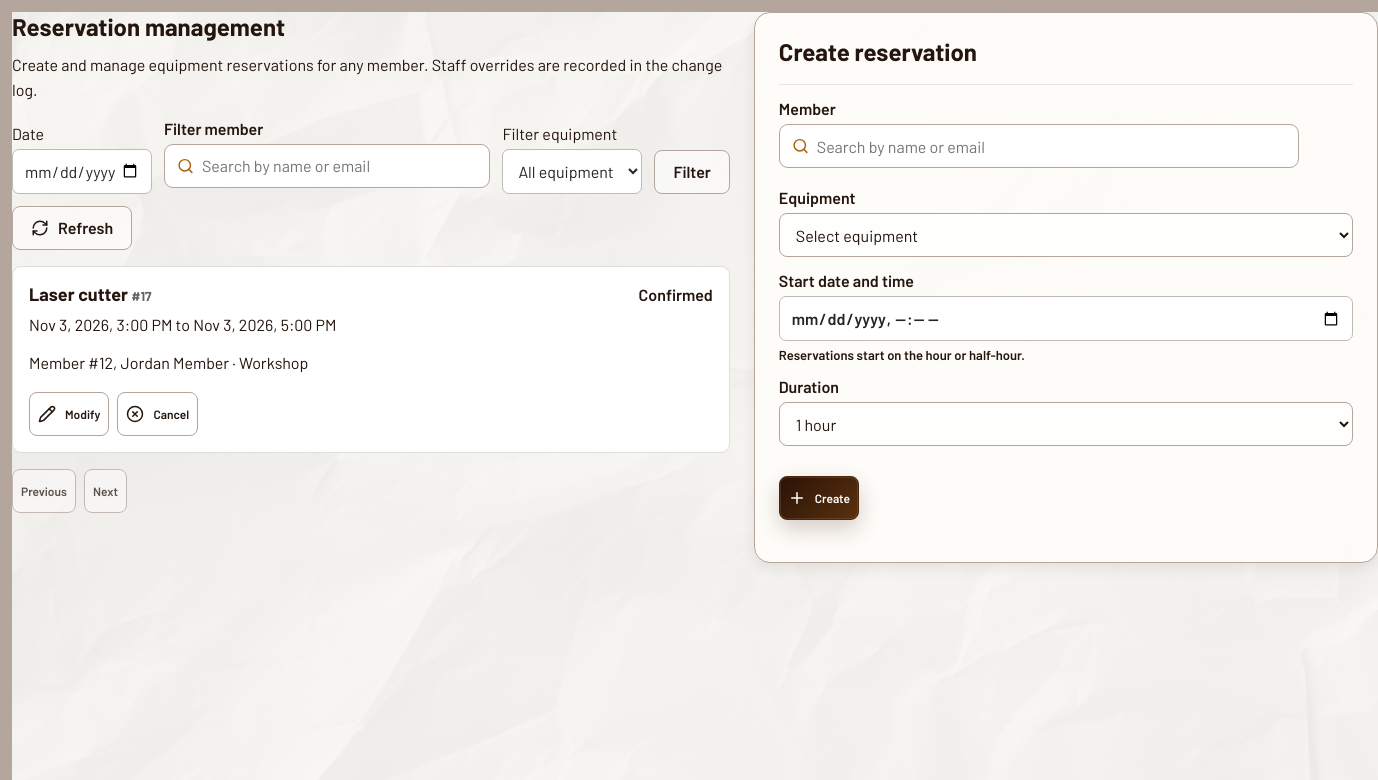
staff cannot submit an off-grid reservation start
Click the button "Modify".
click(69, 414)  # box [29,392,109,436]
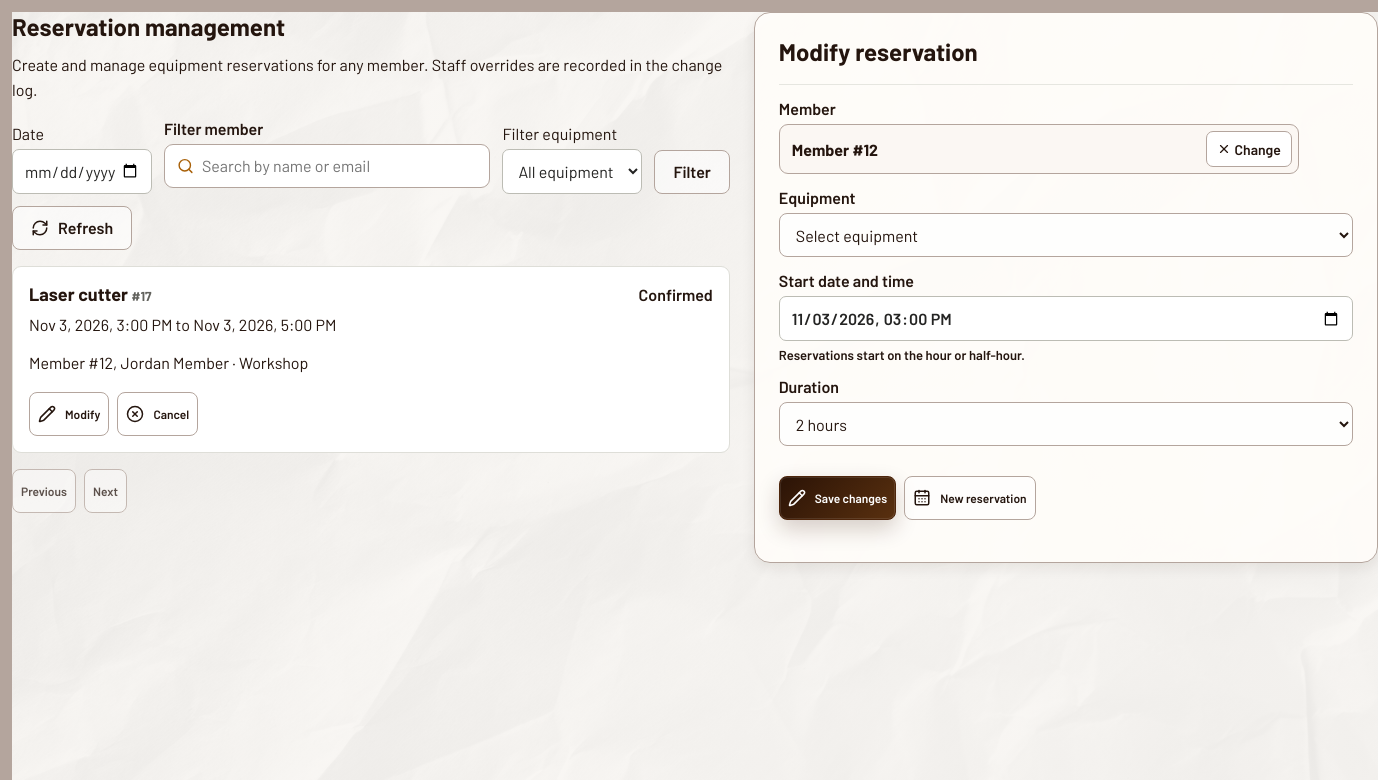
Replace the text in the field labelled "Start date and time" with "2026-11-03T19:16" at [1066, 318], box [779,296,1353,341]
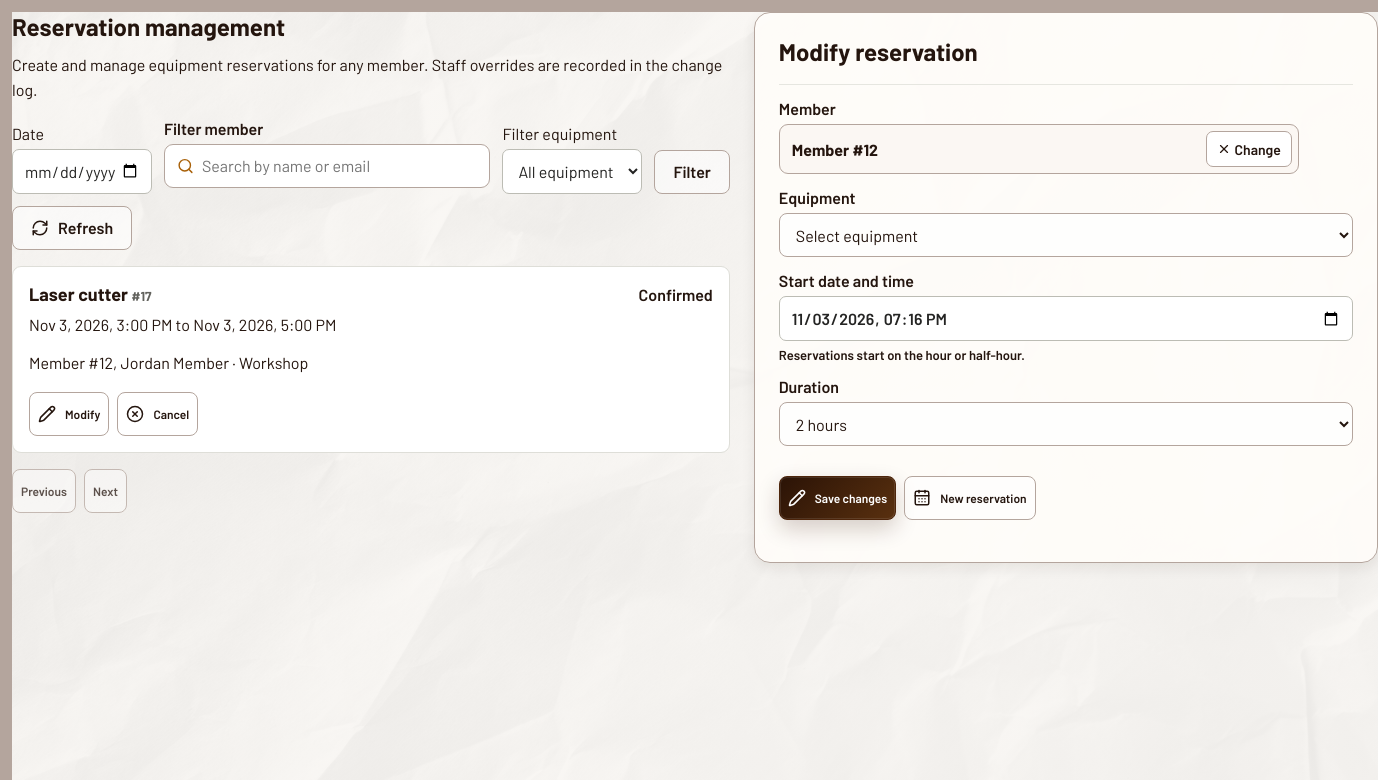
Submit the form labelled "Start date and time", box [779,84,1353,520]
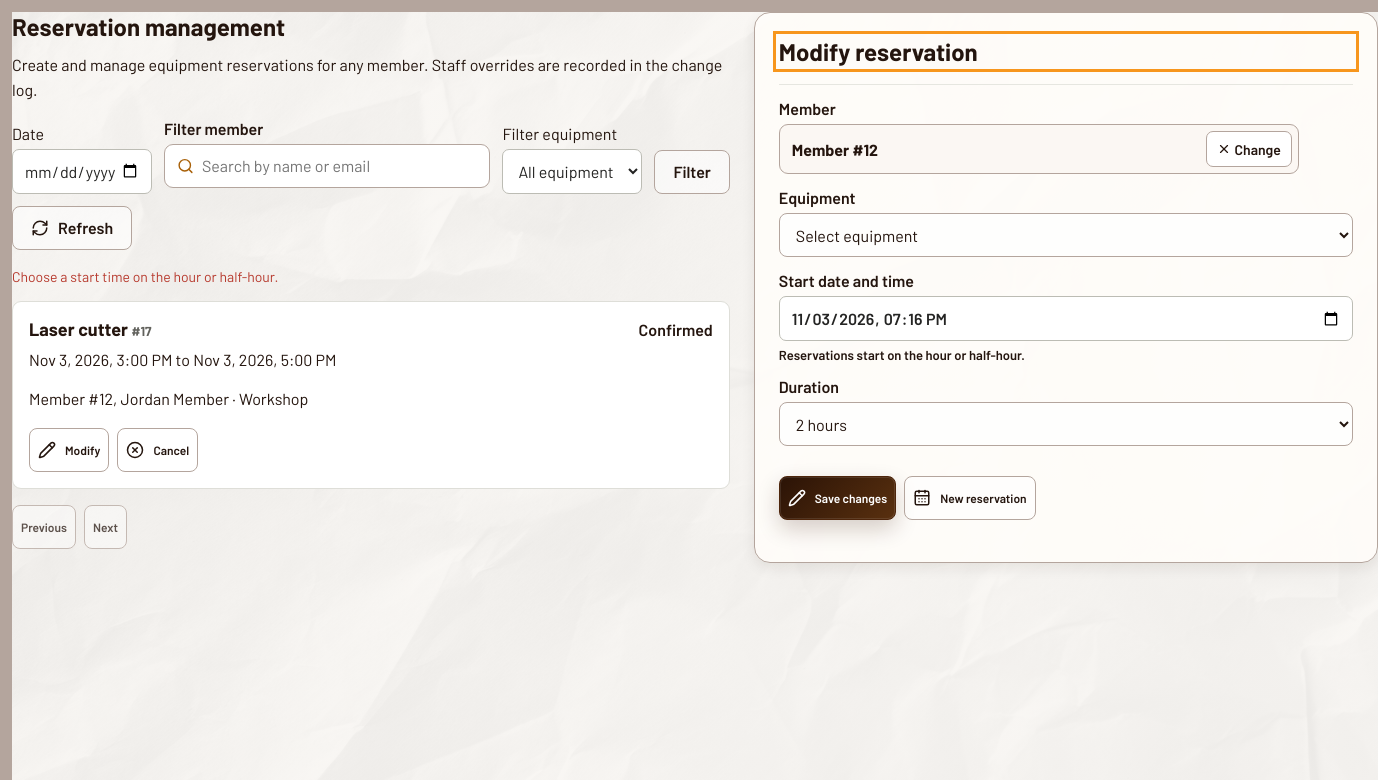
Result: the message reads "Choose a start time on the hour or half-hour." at [12,268,278,285]
